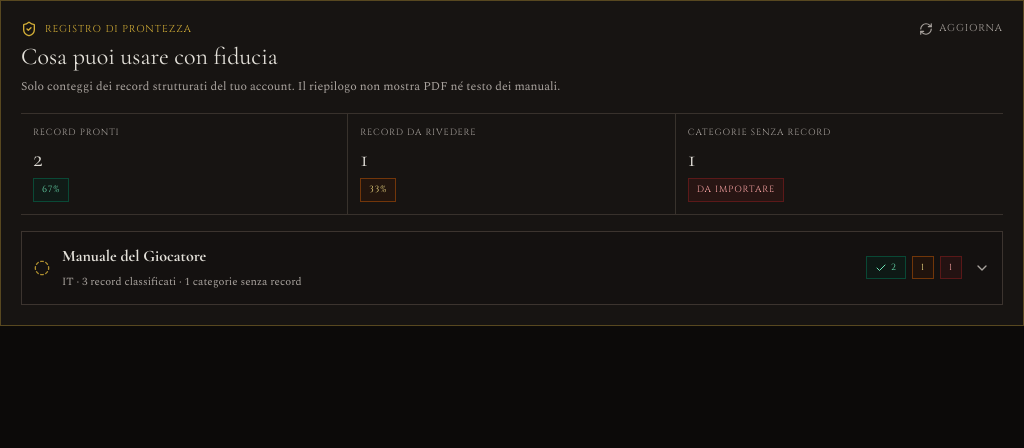
it: LibraryCoverageReadiness › does not re-fetch when the same category is expanded a second time
The width and height of the screenshot is (1024, 448).
Click the button that starts with "Manuale del Giocatore": (134, 256) x1=22 y1=232 x2=1002 y2=304
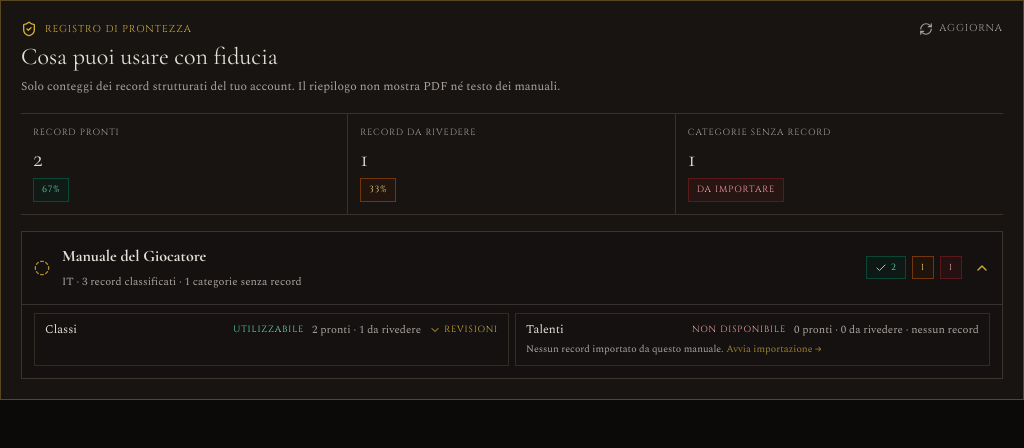
First expand → fetches
Click the button with test id "expand-category-manuale-giocatore.pdf-class": (464, 330) x1=429 y1=323 x2=498 y2=336
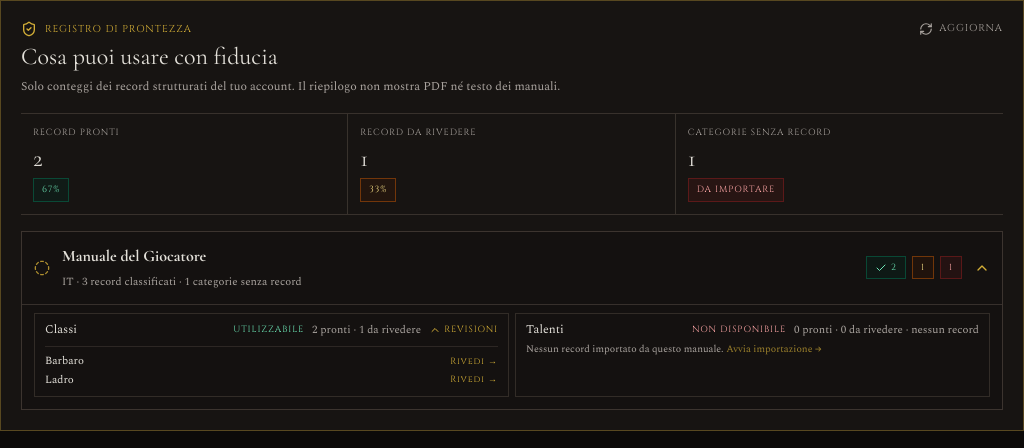
Click the button with test id "expand-category-manuale-giocatore.pdf-class": (464, 330) x1=429 y1=323 x2=498 y2=336
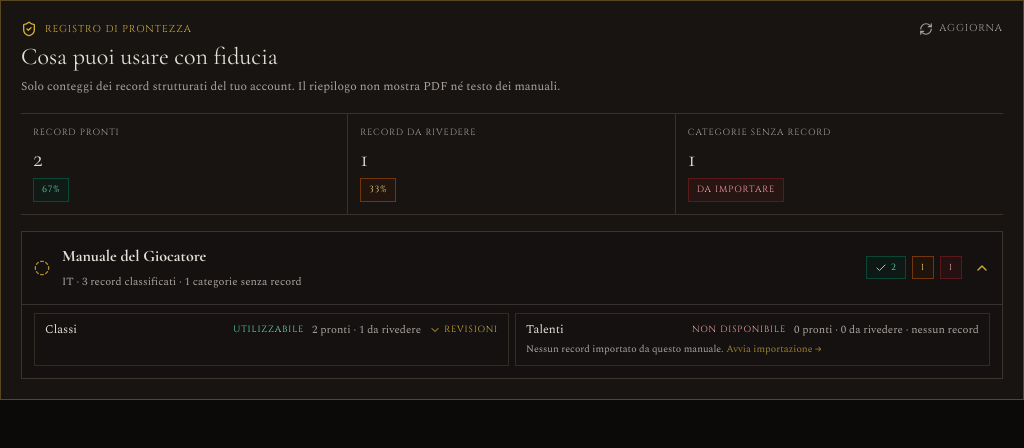
Re-expand → must NOT call the API again
Click the button with test id "expand-category-manuale-giocatore.pdf-class": (464, 330) x1=429 y1=323 x2=498 y2=336
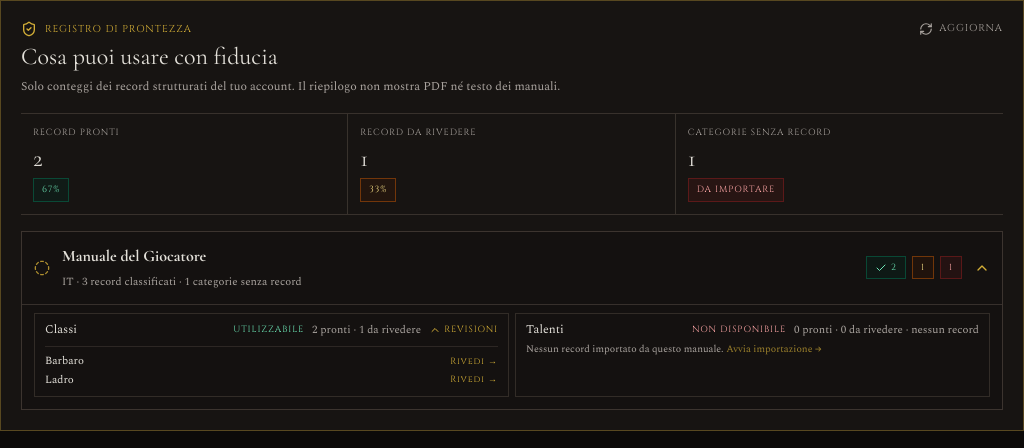
Now the element with test id "category-records-list-manuale-giocatore.pdf-class" is shown, box x1=45 y1=346 x2=498 y2=388
Now the element with test id "category-records-list-manuale-giocatore.pdf-class" shows "Barbaro", box x1=45 y1=352 x2=84 y2=369
